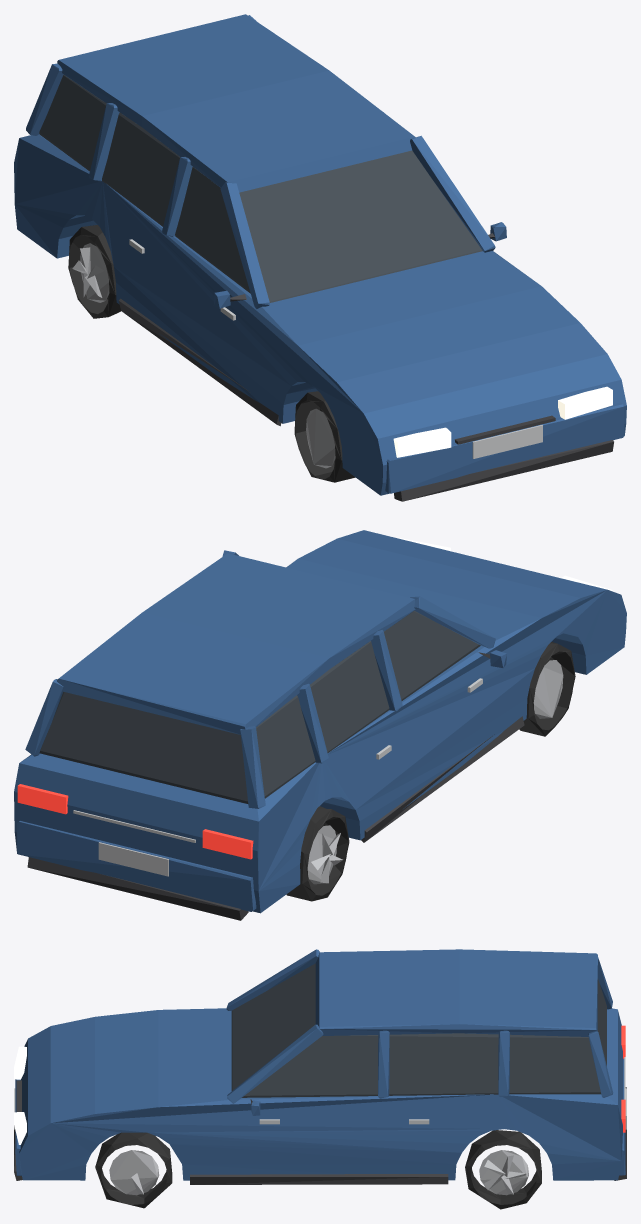
File: car-blue-lod1.glb
The picture shows the model from 3 angles, top to bottom: view 1: azimuth 30°, elevation 25°; view 2: azimuth 150°, elevation 25°; view 3: azimuth 270°, elevation 25°; orthographic projection. The views are drawn at different scales.
Size of the model in its own units: 2.16 by 1.53 by 4.84.
